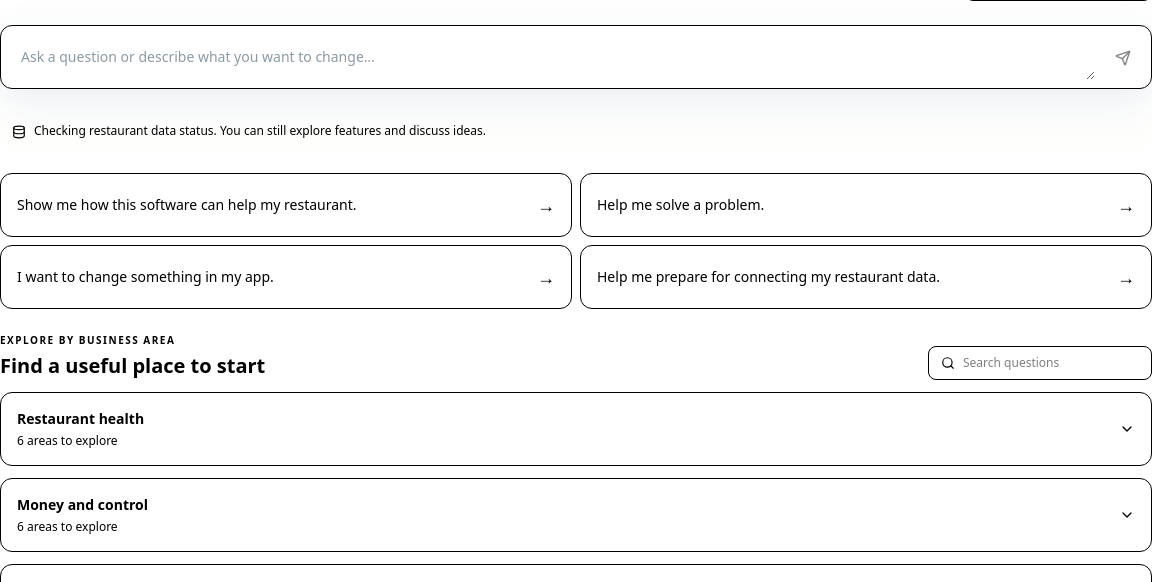
Test: owner OS without restaurant data › previews and saves the OS default area only after Apply
The width and height of the screenshot is (1152, 582).
Click the heading "Money and control 6 areas to explore". click: (82, 505)
box: [17,495,1135,535]
(page scrolled)
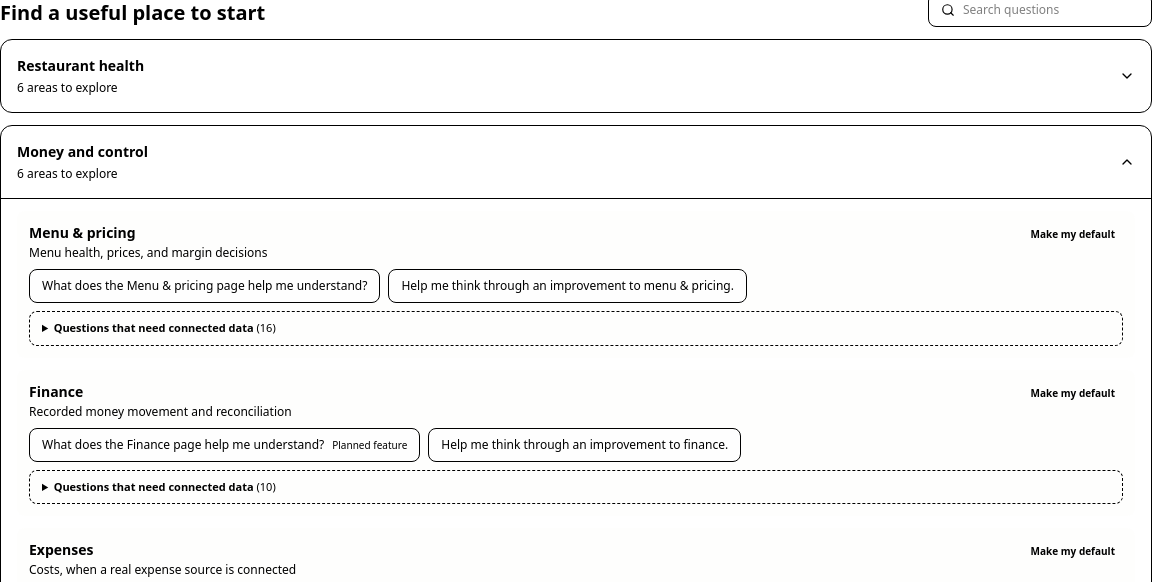
Click the 1st button "Make my default". click: (1073, 235)
box: [1023,223,1123,246]
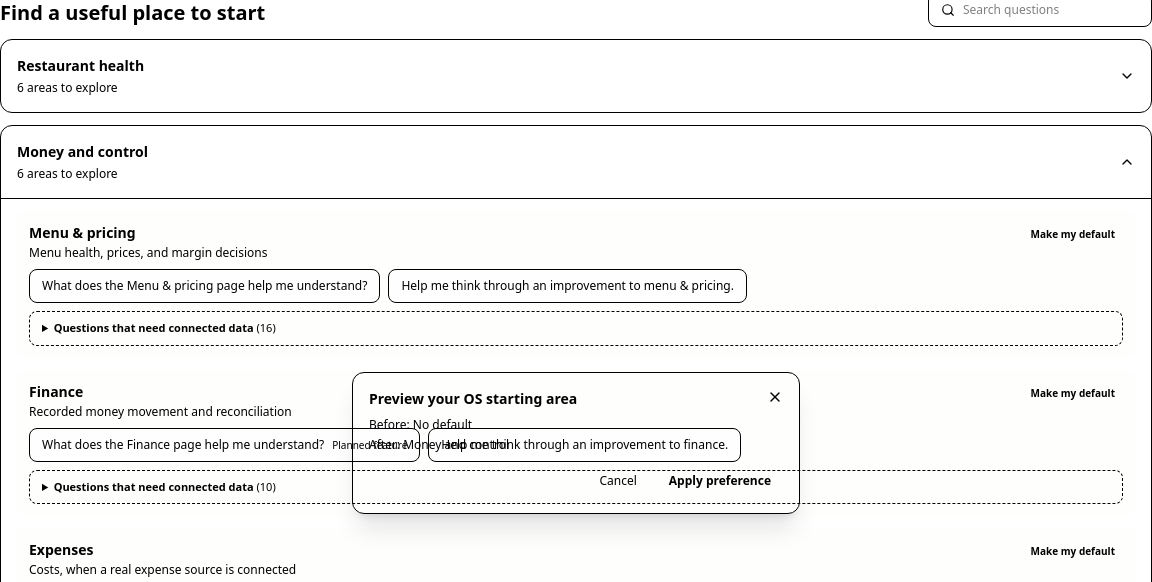
Expected: the dialog named "Preview default OS area" is shown, [352,372,800,514]
Expected: the text "After: Money and control" is shown, [369,436,509,453]
Click the button "Apply preference". click: (720, 481)
box: [657,465,783,497]
(page scrolled)
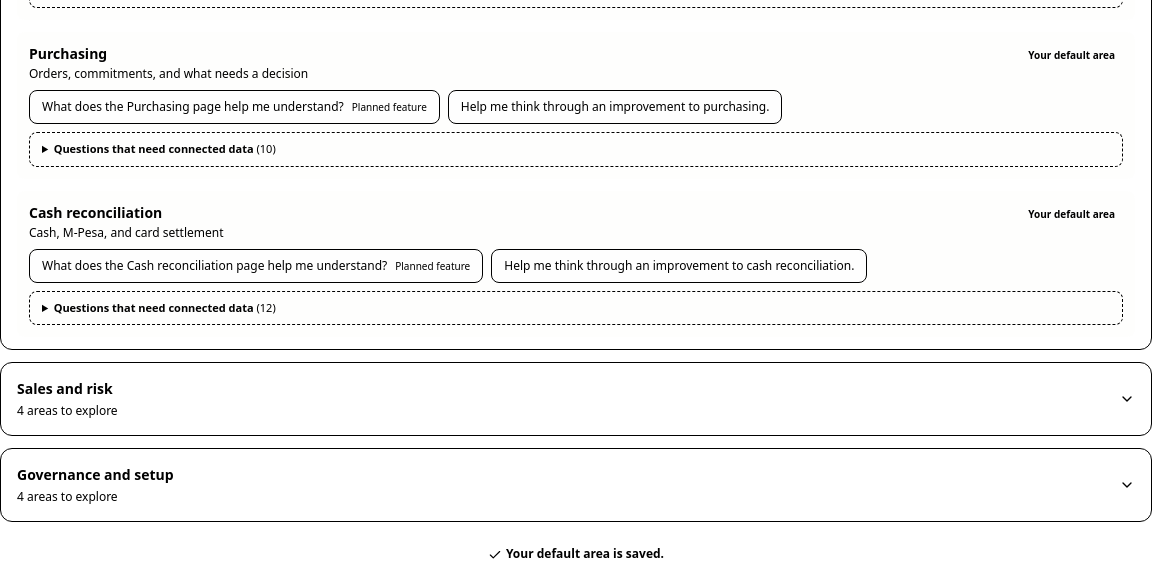
Expected: the text "Your default area is saved." is shown, [488,545,664,562]
